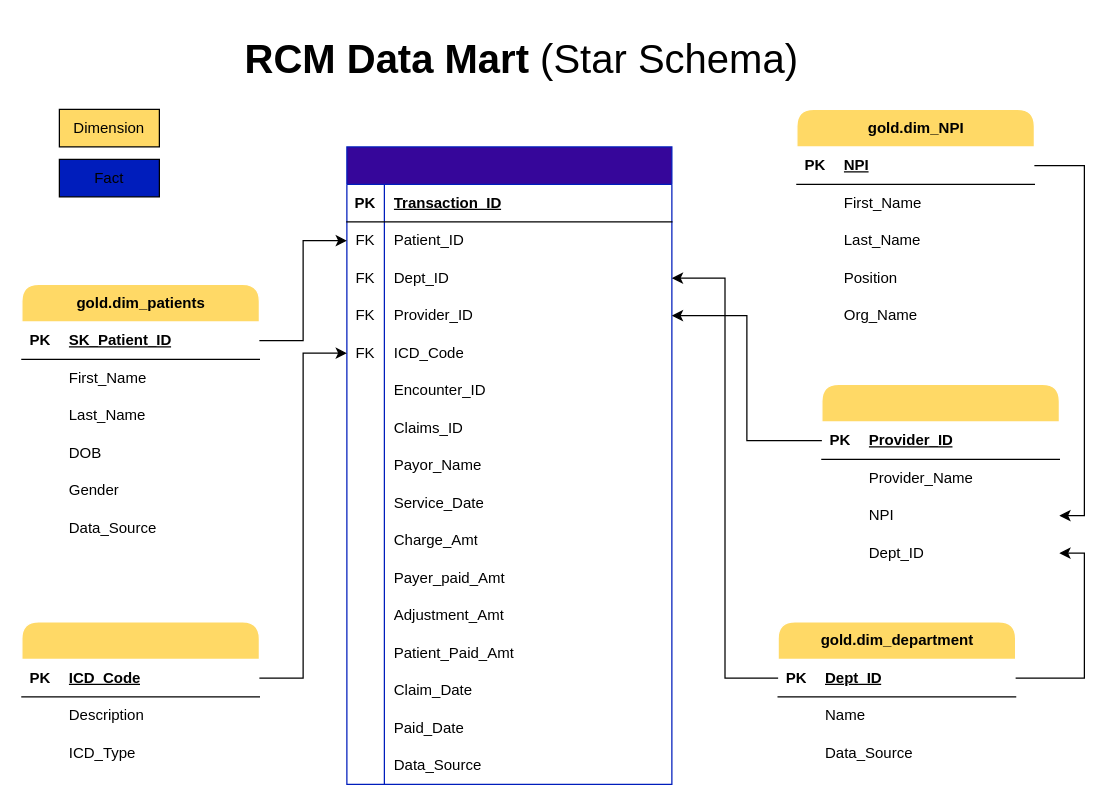
Image size: 1116x806. Some labels were removed from this diagram. Each missing label, with the box of its shape:
gold.dim_diagnosis: (21, 621, 259, 772)
gold.dim_providers: (821, 383, 1059, 572)
gold.fact_transactions: (346, 146, 672, 784)
